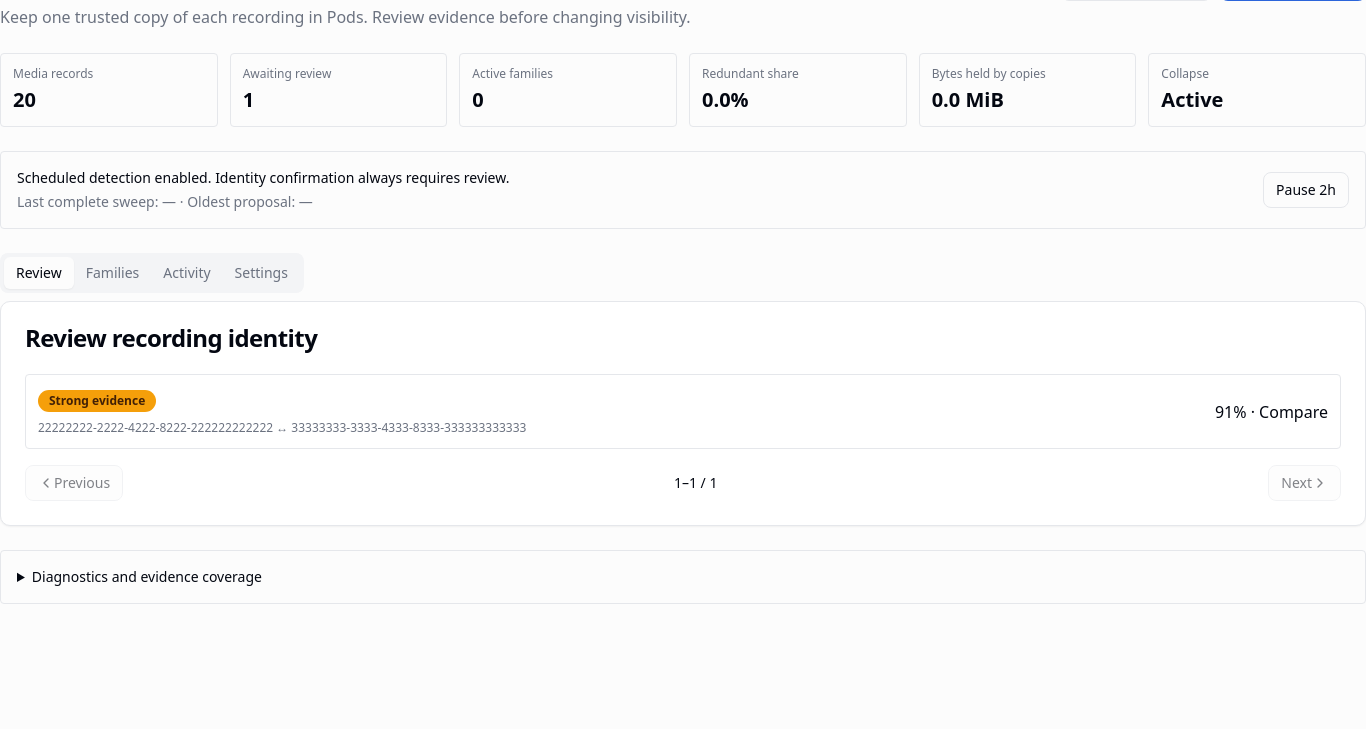
preserves the draft and exposes a concurrent policy conflict
Click the tab "Settings" at (261, 273), box left=223, top=257, right=300, bottom=289
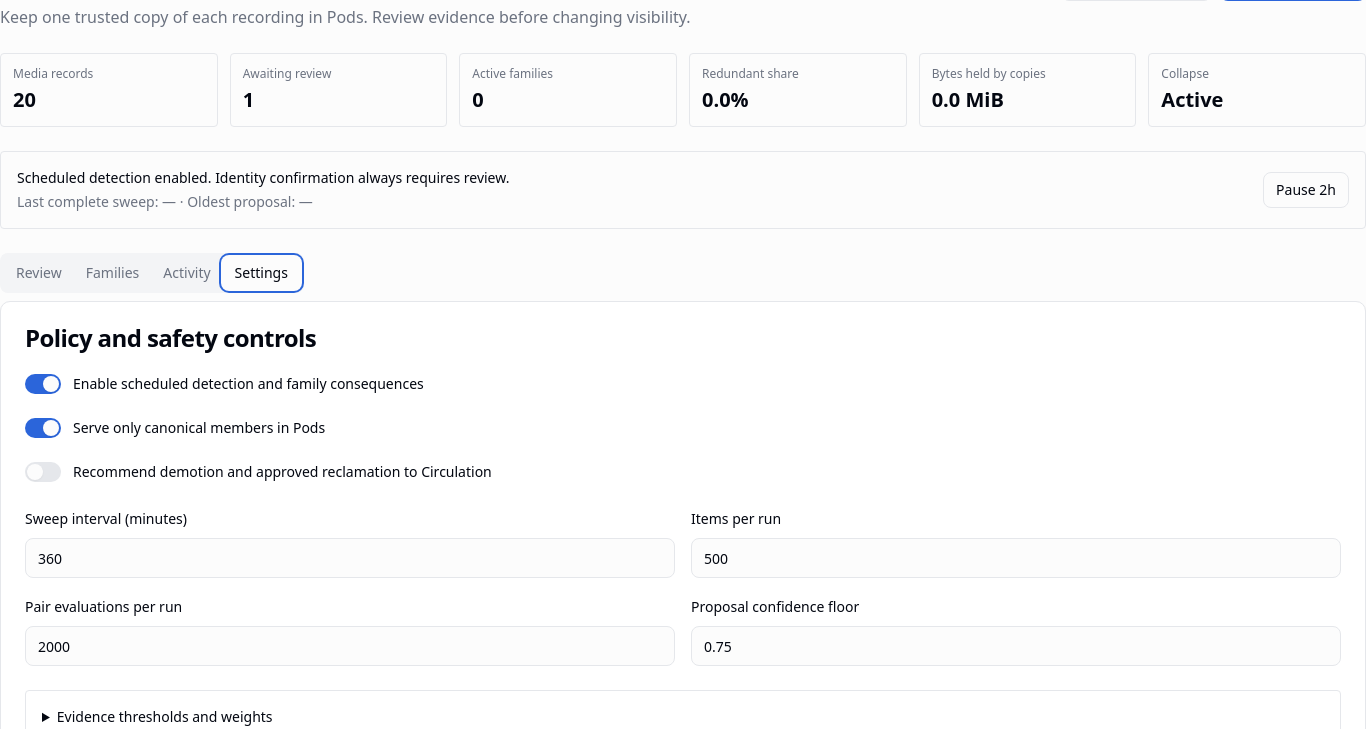
Replace the text in the number field labelled "Proposal confidence floor" with "0.8" at (1016, 646), box left=691, top=626, right=1341, bottom=666
(page scrolled)
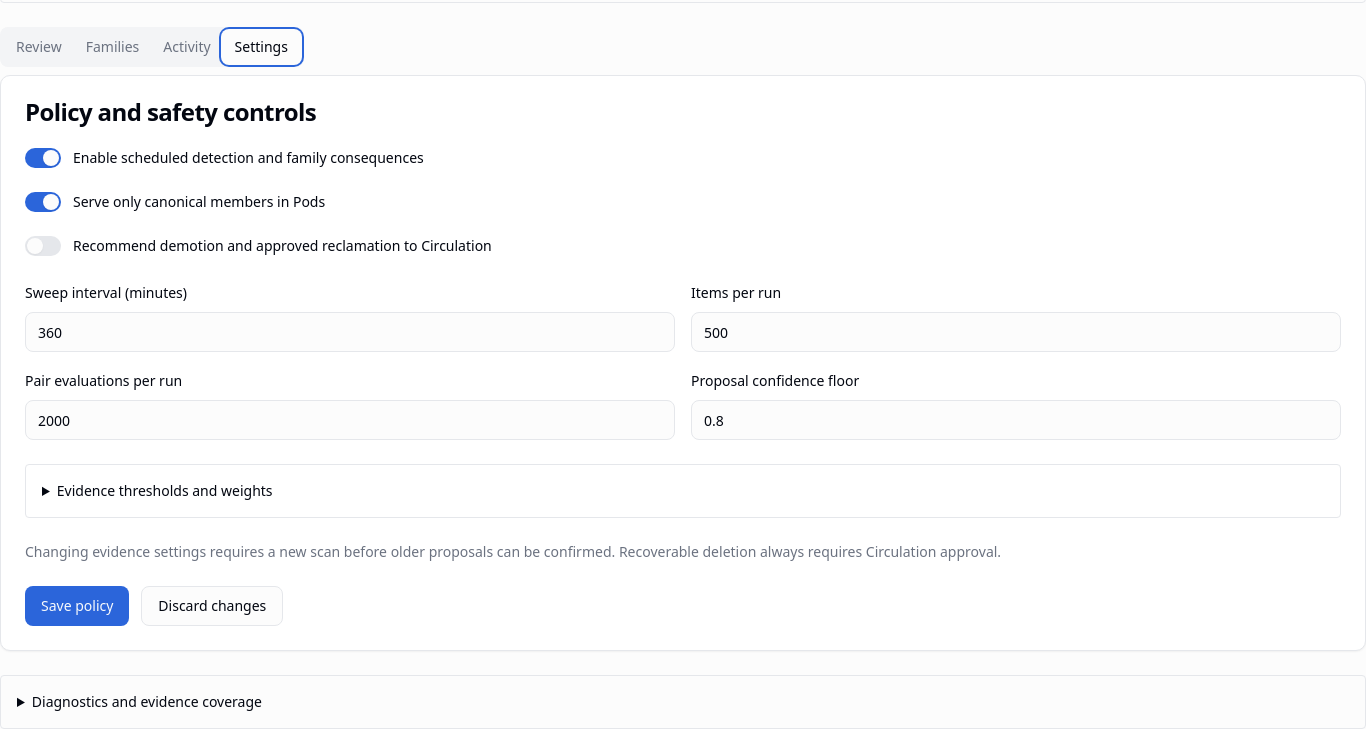
Click the button "Save policy" at (77, 606), box left=25, top=586, right=129, bottom=626
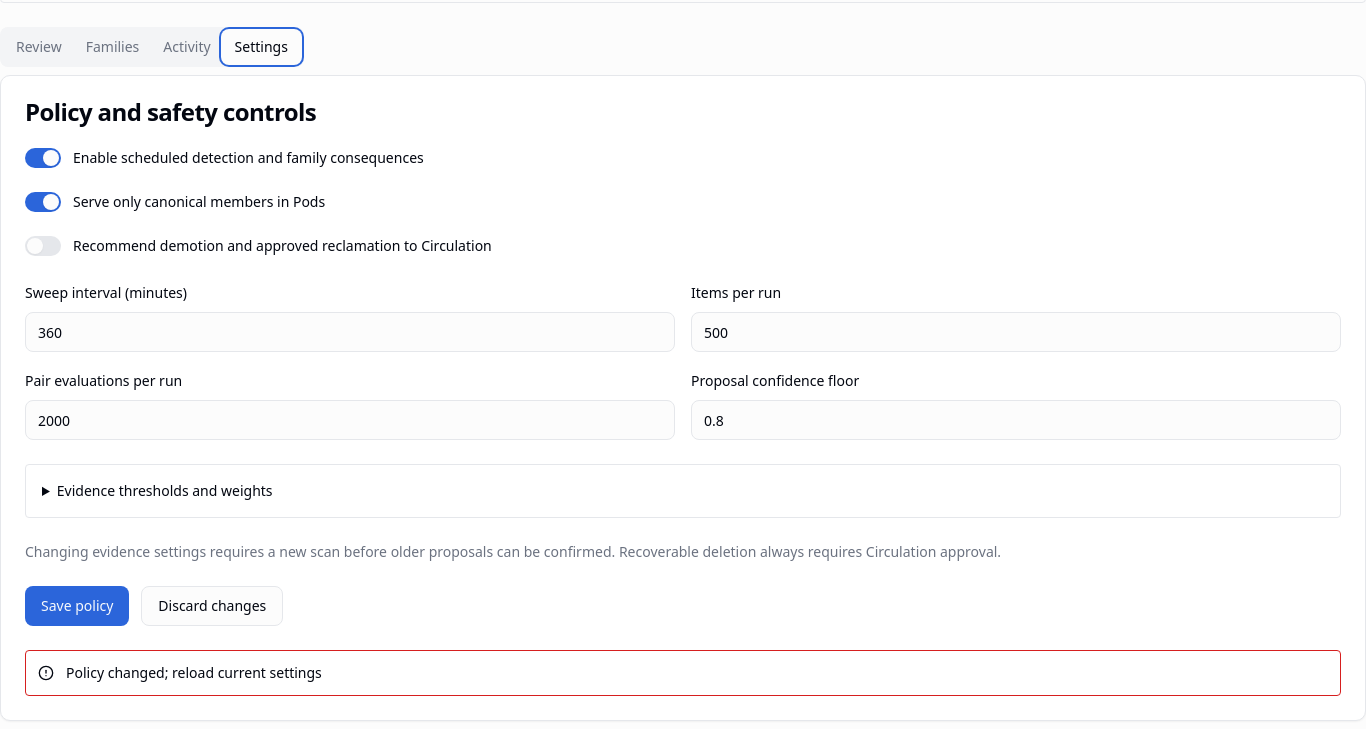
Expected: the text "Policy changed; reload current settings" is shown, left=25, top=650, right=1341, bottom=696
